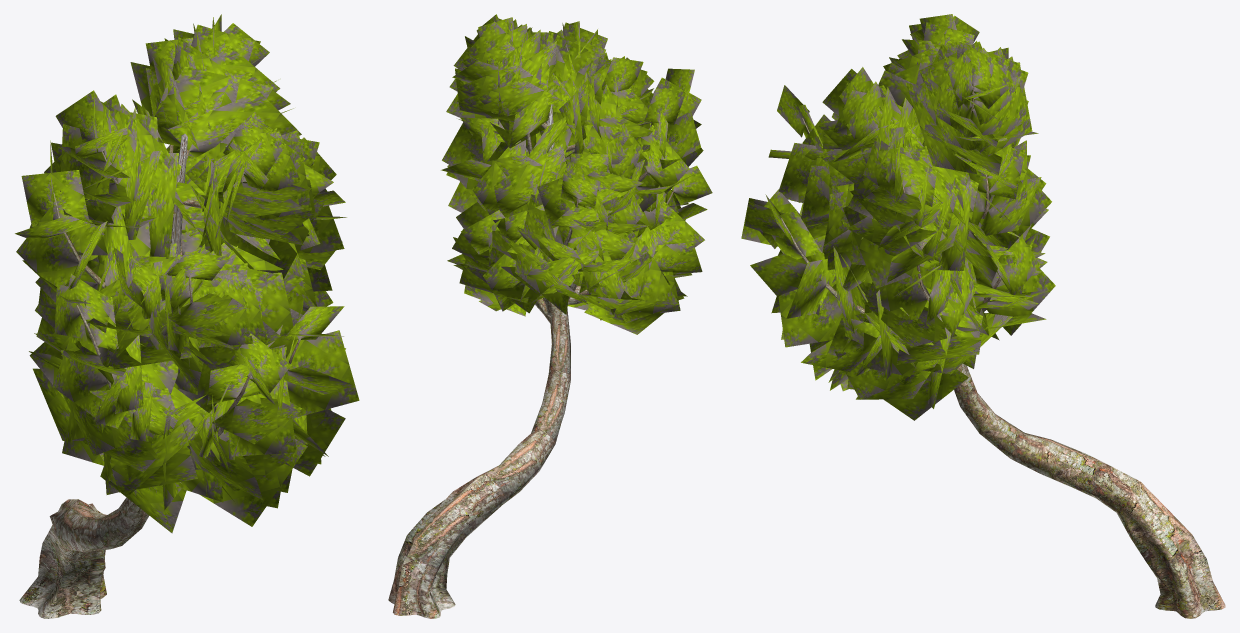
File: Tree_02.obj
3 renders of one model, left to right at view 1: azimuth 30°, elevation 25°; view 2: azimuth 150°, elevation 25°; view 3: azimuth 270°, elevation 25°, orthographic. The views are drawn at different scales.
Visible parts, largest first — view 1: bark12, oak branch; view 2: bark12, oak branch; view 3: bark12, oak branch.
Part boxes in pixels (x1,y1,x2,y2): bark12: [15, 14, 359, 533]; oak branch: [19, 133, 305, 618]; bark12: [441, 14, 712, 334]; oak branch: [388, 104, 673, 618]; bark12: [741, 14, 1055, 420]; oak branch: [781, 84, 1225, 618].
Bounding box in the file's own units: 79.91 × 162 × 126.
Materials: 2 (2 with a texture image).
